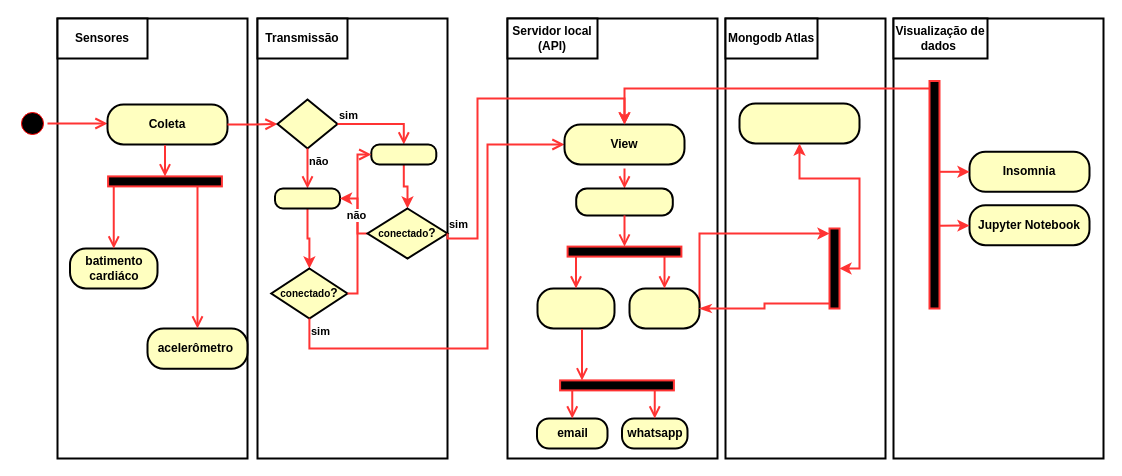
Image size: 1122x476. Some labels were removed from this diagram. Here are the shapes that lost their labels. From the top down, the box of each, then its label:
(276, 98, 338, 149): Rede
(738, 102, 860, 144): Armazenamento
(370, 143, 437, 165): móvel
(274, 187, 340, 209): Wi-Fi
(575, 187, 673, 216): Validation
(536, 287, 615, 329): Notification
(628, 287, 700, 329): Service
